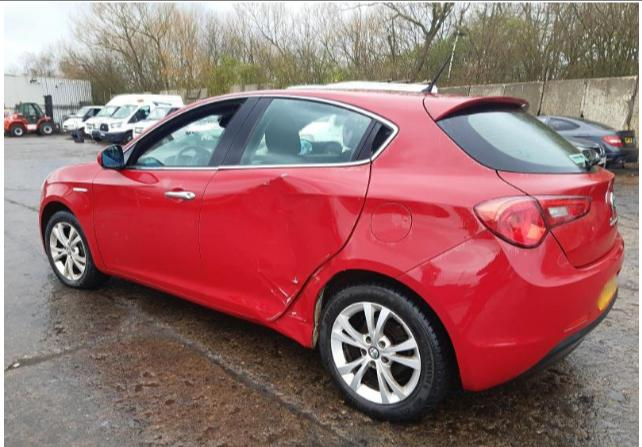Broken part: (268, 207, 365, 323), (312, 287, 324, 348)
Dent: (329, 194, 513, 321), (230, 173, 359, 305), (227, 293, 281, 318)
Flaking: (366, 221, 398, 248), (390, 210, 414, 239), (494, 236, 520, 256), (396, 201, 410, 213), (524, 272, 530, 279), (592, 225, 595, 230), (524, 252, 527, 256)
Scratch: (257, 269, 289, 298), (489, 340, 523, 350), (262, 172, 288, 185), (289, 310, 309, 325), (271, 289, 287, 306), (284, 288, 298, 307), (315, 253, 330, 267), (313, 266, 325, 283), (267, 309, 283, 320), (124, 193, 150, 199), (135, 190, 141, 207), (292, 276, 298, 285)
